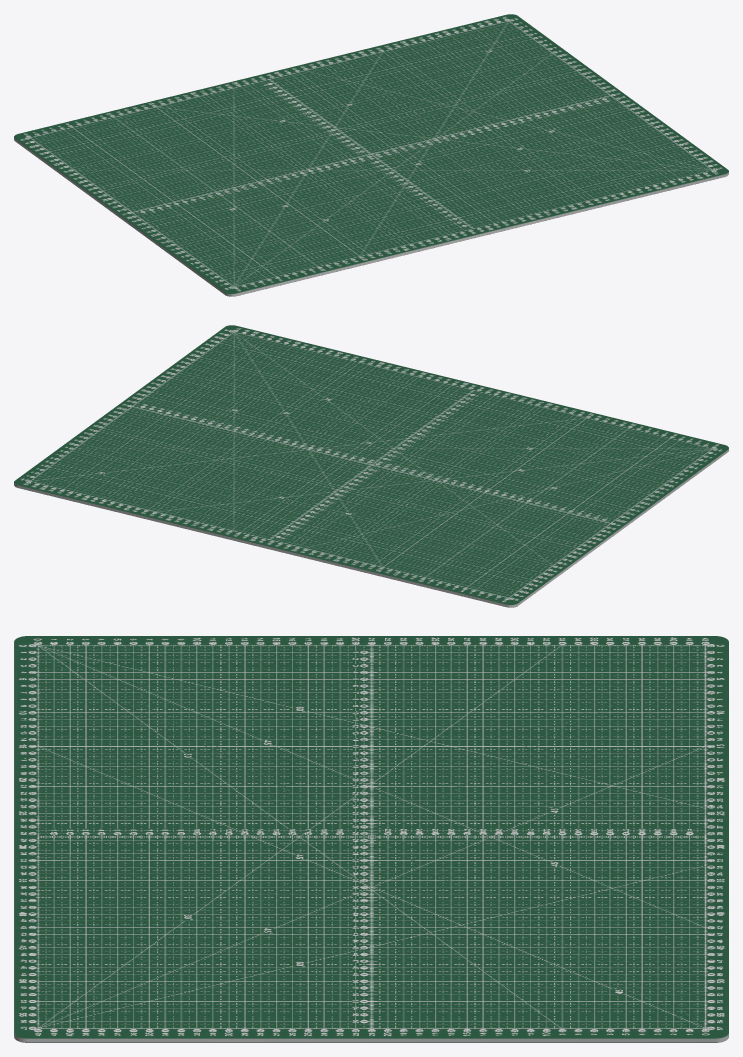
File: cutting_mat.glb
3 renders of one model, top to bottom at view 1: azimuth 30°, elevation 25°; view 2: azimuth 150°, elevation 25°; view 3: azimuth 270°, elevation 25°, orthographic. The views are drawn at different scales.
Parts seen in each view (by area): view 1: Metric_Cutting_Mat_100Pixels_Per_UnrealUnit; view 2: Metric_Cutting_Mat_100Pixels_Per_UnrealUnit; view 3: Metric_Cutting_Mat_100Pixels_Per_UnrealUnit.
Part boxes in pixels (left/top/right/bottom): Metric_Cutting_Mat_100Pixels_Per_UnrealUnit: left=14, top=14, right=728, bottom=296; Metric_Cutting_Mat_100Pixels_Per_UnrealUnit: left=14, top=325, right=728, bottom=607; Metric_Cutting_Mat_100Pixels_Per_UnrealUnit: left=14, top=636, right=728, bottom=1042.
Size of the model in its own units: 60.6 by 0.3419 by 45.5.
1 material, 1 textured.
